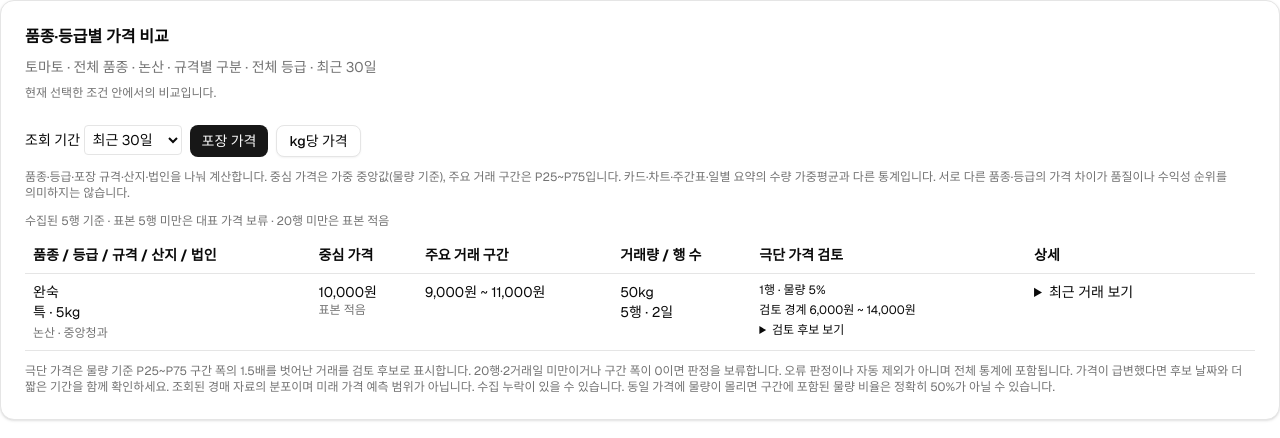
Scenario: shows review candidates separately while retaining the center price and source units
The image size is (1280, 438).
Expected: the heading "검토 후보 보기" is shown, top-left (772, 322), bottom-right (844, 338)
Expected: the text "1행 · 물량 5%" is shown, top-left (759, 282), bottom-right (826, 298)
Click the button "kg당 가격" at coordinates (319, 141), box top-left (276, 125), bottom-right (361, 157)
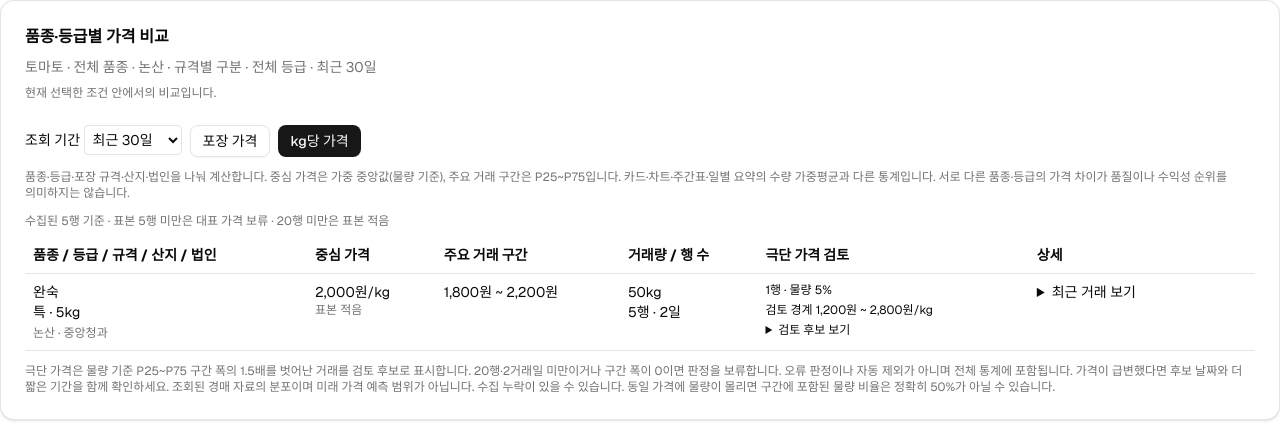
Result: the text "검토 경계 1,200원 ~ 2,800원/kg" is shown at top-left (766, 302), bottom-right (933, 318)
